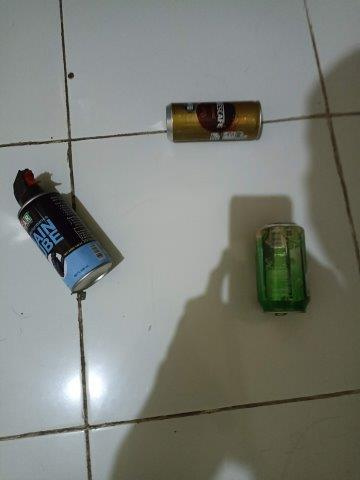kaleng: (17, 191, 113, 293), (256, 222, 310, 317), (166, 100, 263, 142)
